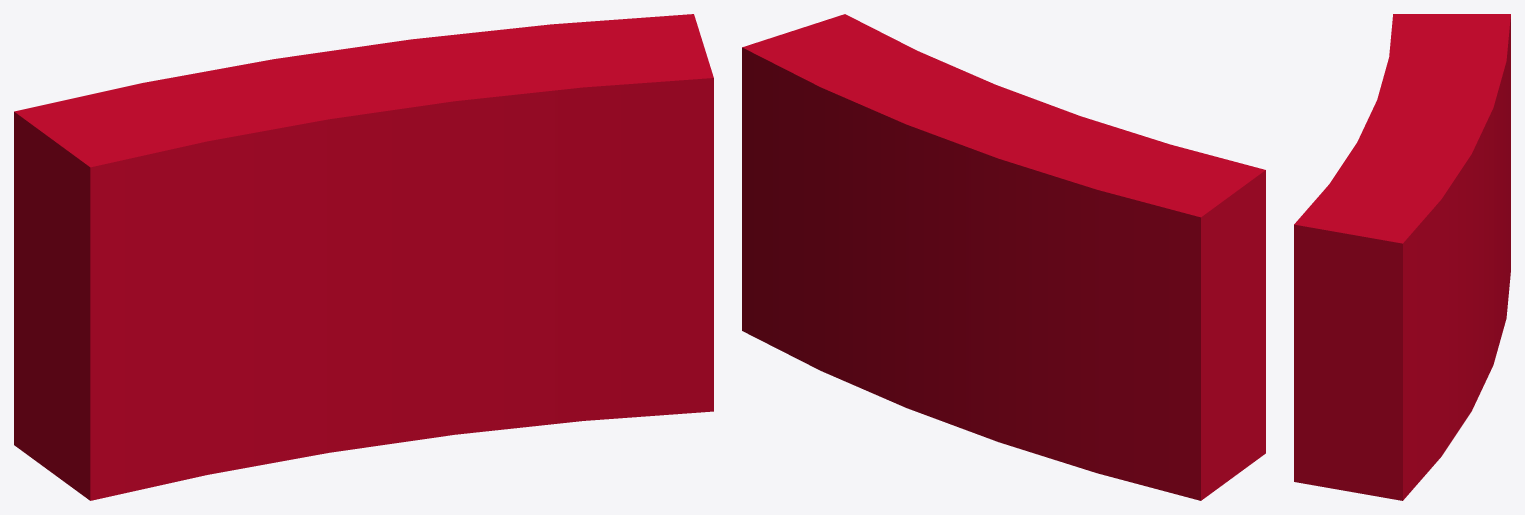
The model's file is block.fbx.
3 views of the same model, side by side, from view 1: azimuth 30°, elevation 25°; view 2: azimuth 150°, elevation 25°; view 3: azimuth 270°, elevation 25° (orthographic). The views are drawn at different scales.
Visible parts, largest first — view 1: red_block; view 2: red_block; view 3: red_block.
Boxes of the visible parts, left/top/right/bottom form: red_block: left=14, top=14, right=713, bottom=500; red_block: left=742, top=14, right=1265, bottom=500; red_block: left=1294, top=14, right=1510, bottom=500.
Size of the model in its own units: 3.83 by 2 by 1.53.
